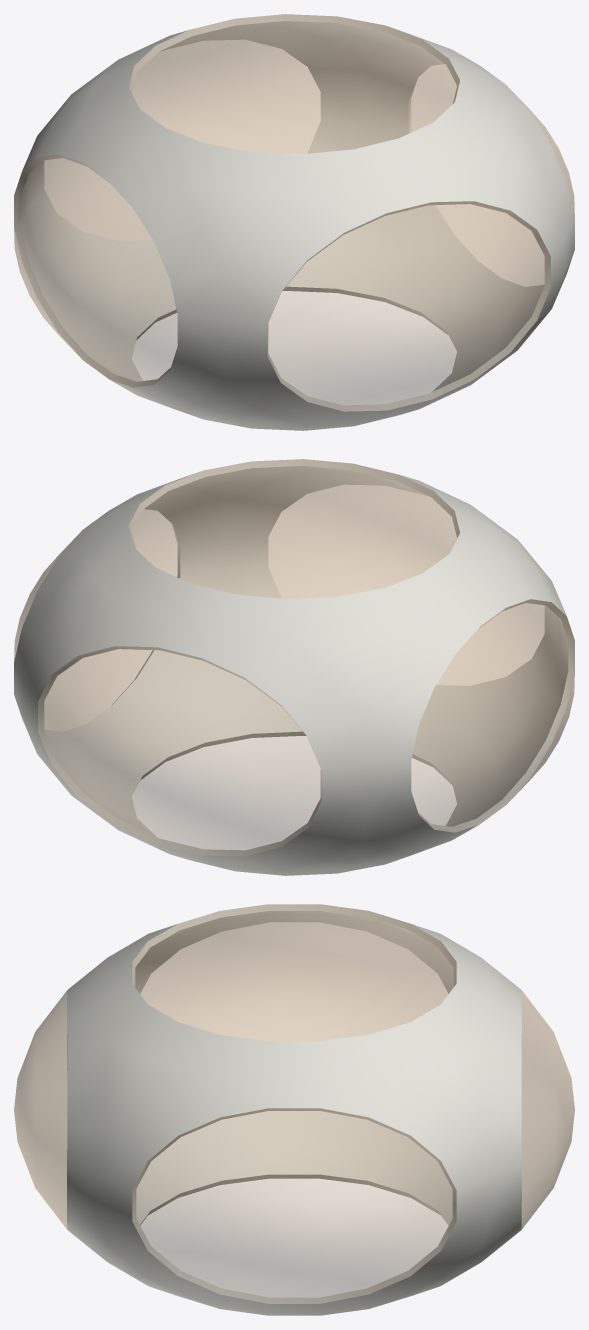
File: ListeningRoomDecoration.fbx
3 views of the same model, one above another, from view 1: azimuth 30°, elevation 25°; view 2: azimuth 150°, elevation 25°; view 3: azimuth 270°, elevation 25° (orthographic).
Parts seen in each view (by area): view 1: ListeningRoomDecoration001; view 2: ListeningRoomDecoration001; view 3: ListeningRoomDecoration001.
Boxes of the visible parts, box(x1,y1,x2,y2) form: ListeningRoomDecoration001: box(14, 14, 574, 430); ListeningRoomDecoration001: box(14, 459, 574, 875); ListeningRoomDecoration001: box(14, 904, 574, 1315).
Size of the model in its own units: 40.01 by 24.13 by 40.01.
